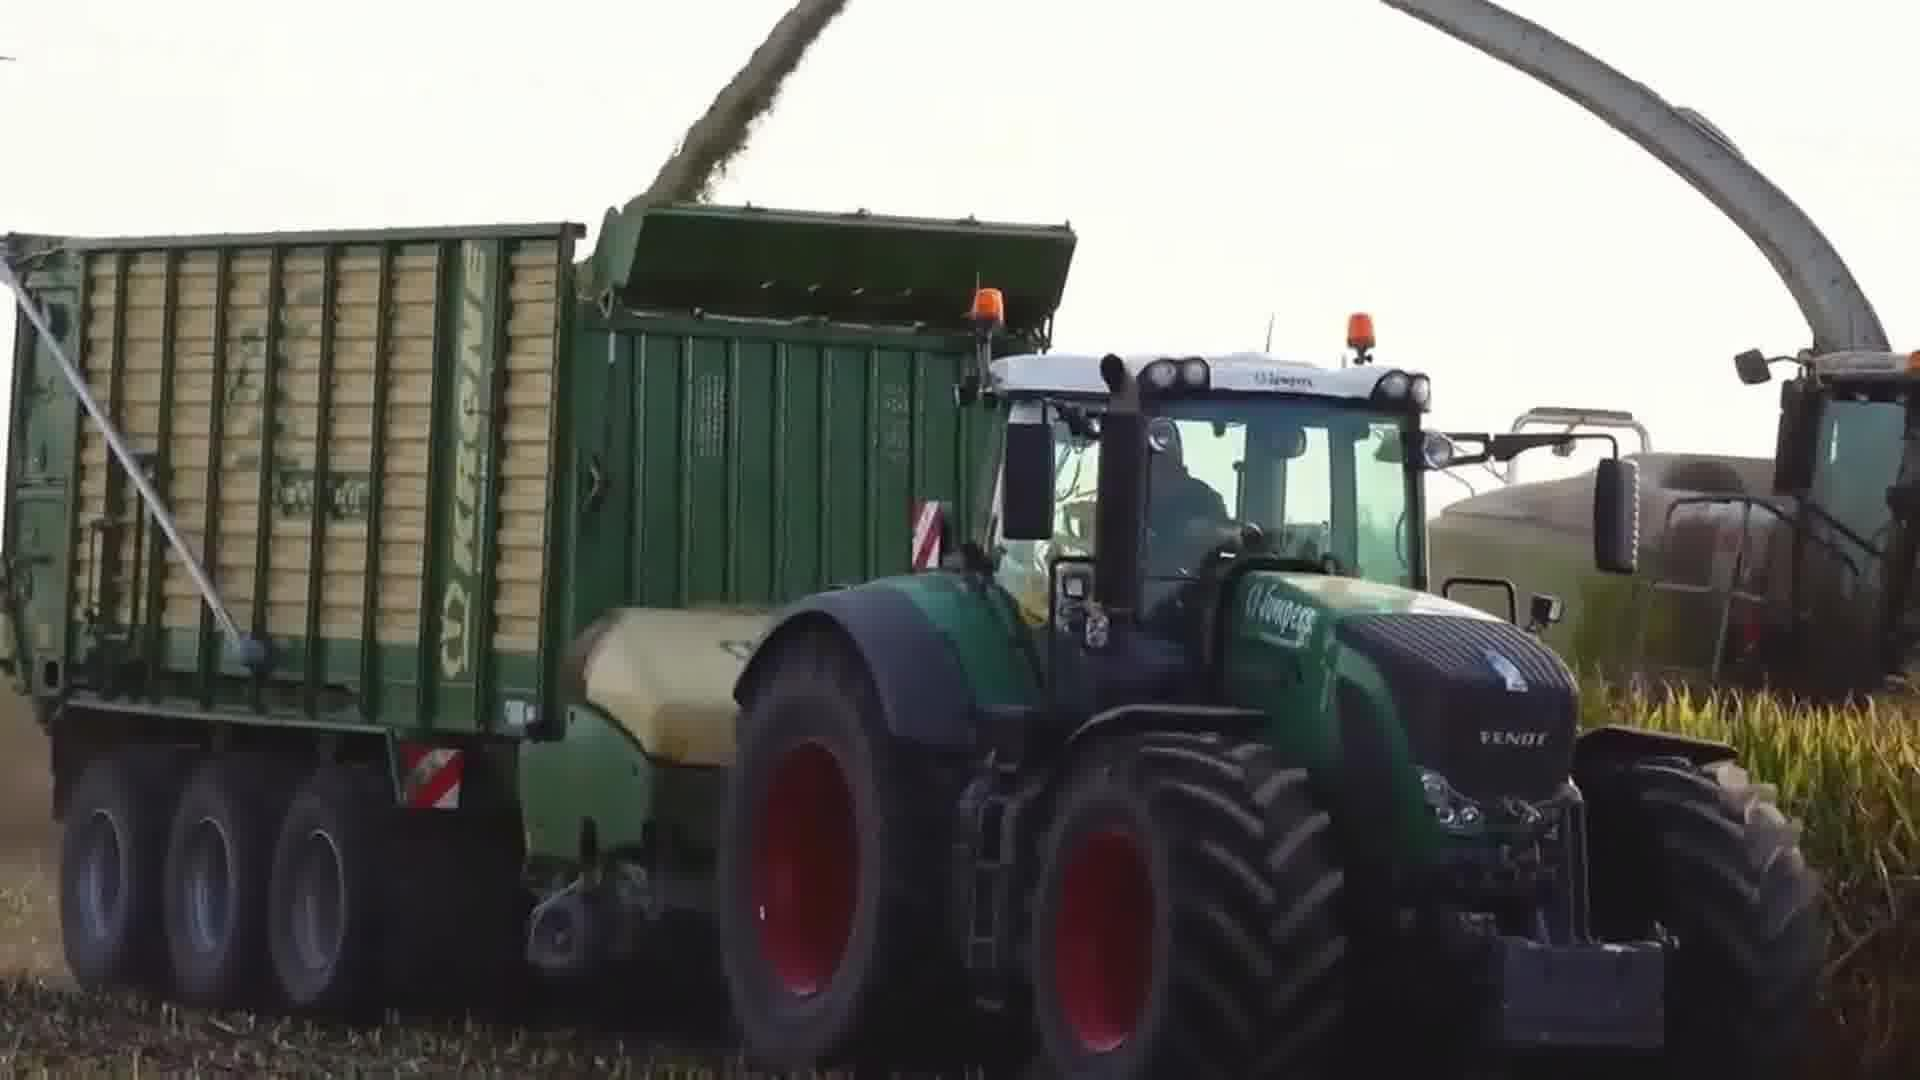combine harvester: (1381, 0, 1920, 730)
tractor: (707, 274, 1834, 1080)
trailer: (0, 207, 1089, 1029)
